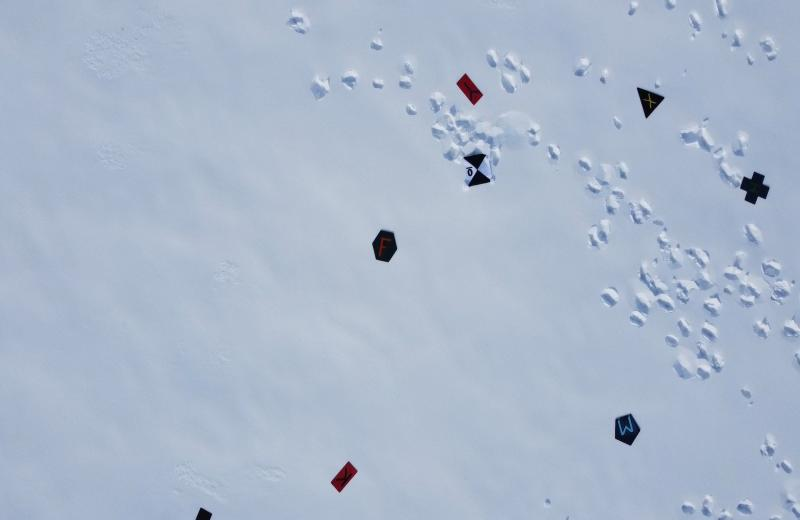Cross: (736, 167, 774, 207)
Hexagon: (369, 226, 400, 266)
Pentagon: (608, 404, 644, 450)
Rectangle: (450, 71, 490, 111), (329, 456, 360, 496)
Square: (193, 505, 214, 520)
Triangle: (632, 83, 668, 120)
